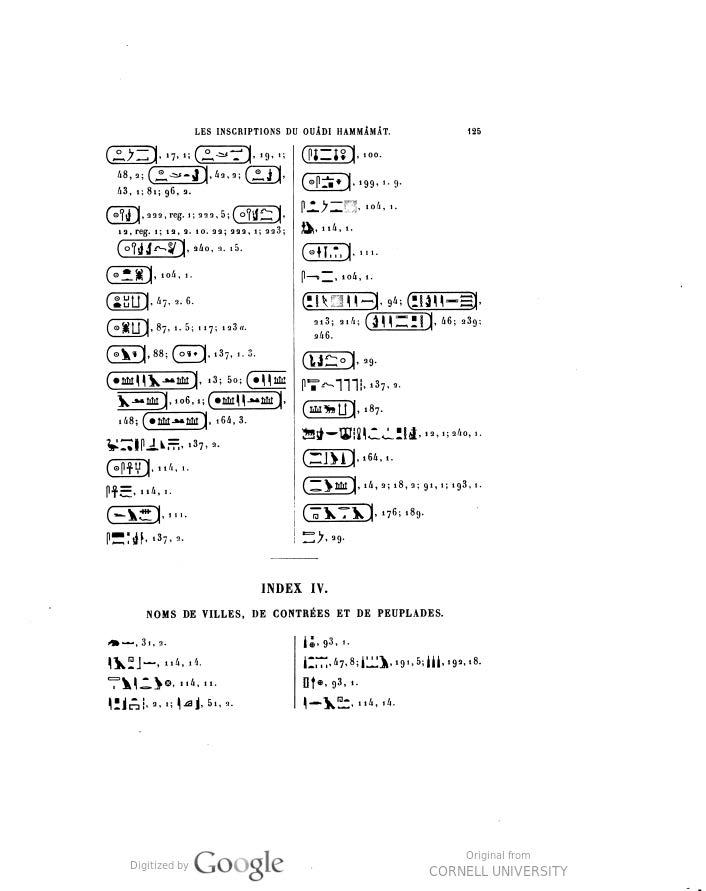circle: (99, 364, 211, 394), (202, 380, 286, 415), (299, 227, 365, 271), (363, 305, 441, 342), (297, 500, 387, 531), (299, 284, 381, 316), (294, 165, 365, 201), (223, 200, 290, 237), (404, 283, 486, 313), (299, 390, 362, 429), (137, 405, 214, 435), (105, 446, 160, 486), (299, 470, 369, 501), (101, 499, 175, 528), (88, 137, 162, 165), (92, 286, 160, 316), (295, 141, 366, 169), (108, 237, 197, 258), (104, 260, 164, 291), (140, 164, 217, 188), (298, 343, 357, 374), (191, 138, 256, 166), (104, 340, 159, 371), (239, 157, 290, 190), (237, 361, 293, 391), (301, 444, 363, 470), (100, 196, 162, 221), (105, 389, 177, 410), (99, 314, 159, 339), (165, 341, 217, 369)
